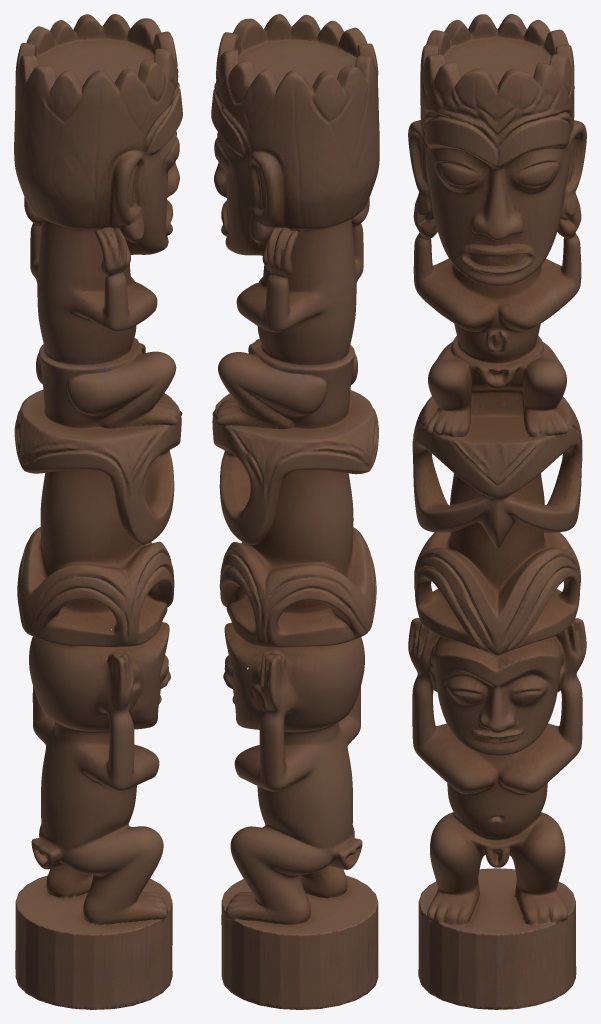
The model's file is sapundu.glb.
The picture shows the model from 3 angles, left to right: view 1: azimuth 30°, elevation 25°; view 2: azimuth 150°, elevation 25°; view 3: azimuth 270°, elevation 25°; orthographic projection.
Parts seen in each view (by area): view 1: tripo_node_b61e81fe-34c8-4ec3-8423-1100673c83a9; view 2: tripo_node_b61e81fe-34c8-4ec3-8423-1100673c83a9; view 3: tripo_node_b61e81fe-34c8-4ec3-8423-1100673c83a9.
Boxes of the visible parts, x1,y1,x2,y2 form: tripo_node_b61e81fe-34c8-4ec3-8423-1100673c83a9: [14, 14, 182, 1009]; tripo_node_b61e81fe-34c8-4ec3-8423-1100673c83a9: [211, 14, 379, 1009]; tripo_node_b61e81fe-34c8-4ec3-8423-1100673c83a9: [408, 14, 586, 1009].
Bounding box in the file's own units: 0.1729 × 0.9998 × 0.173.
1 material, 1 textured.
